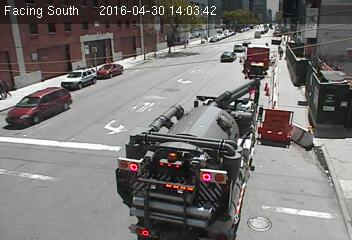neg: (275, 69, 299, 101), (61, 7, 83, 37), (161, 58, 180, 83), (325, 6, 344, 30), (188, 97, 206, 121), (316, 46, 333, 69), (124, 49, 139, 68), (201, 37, 214, 56), (85, 69, 98, 86), (203, 6, 215, 22)
